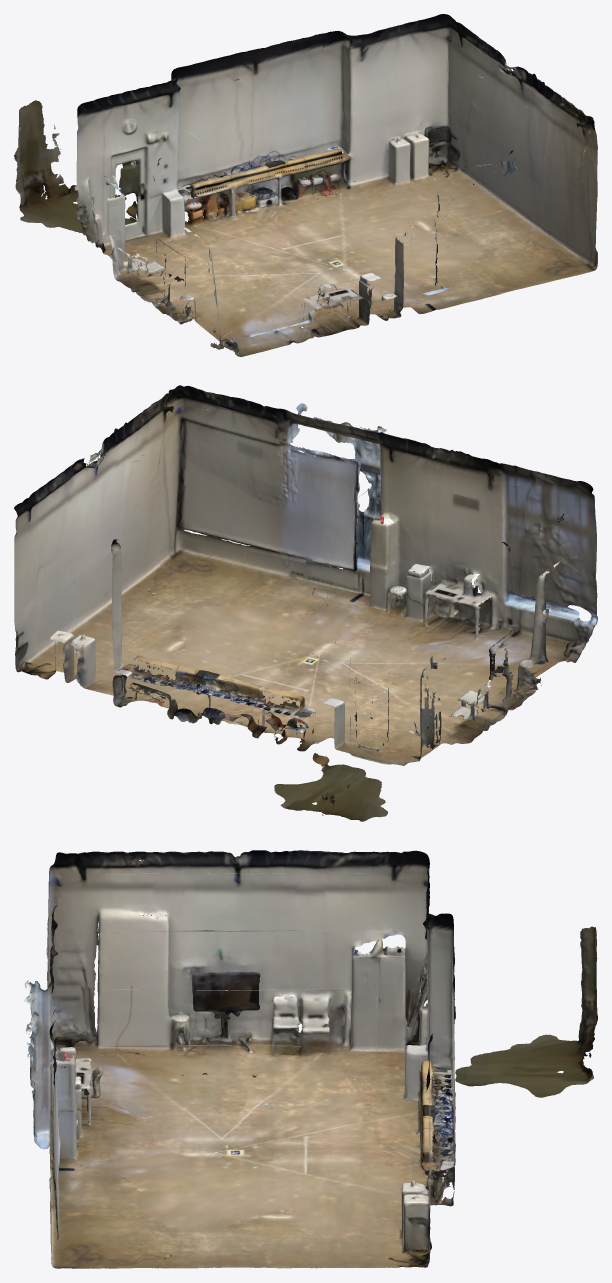
The model's file is DesignRoom.glb.
3 renders of one model, top to bottom at view 1: azimuth 30°, elevation 25°; view 2: azimuth 150°, elevation 25°; view 3: azimuth 270°, elevation 25°, orthographic. The views are drawn at different scales.
Parts seen in each view (by area): view 1: DesignRoom; view 2: DesignRoom; view 3: DesignRoom.
Part boxes in pixels (x1,y1,x2,y2): DesignRoom: [14, 14, 597, 356]; DesignRoom: [14, 385, 597, 821]; DesignRoom: [24, 850, 597, 1268].
Bounding box in the file's own units: 9.73 × 3.78 × 10.14.
1 material, 1 textured.
